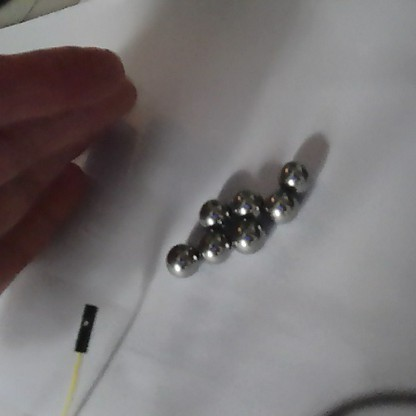ironball: (194, 225, 232, 267), (229, 215, 268, 255), (275, 155, 312, 196), (191, 195, 232, 232), (163, 242, 199, 279), (231, 188, 267, 224), (264, 190, 300, 225)
